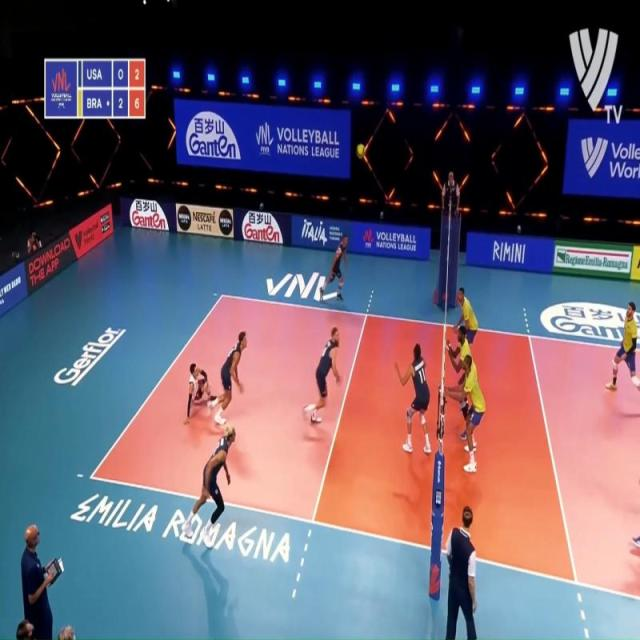volleyball: (357, 144, 365, 157)
